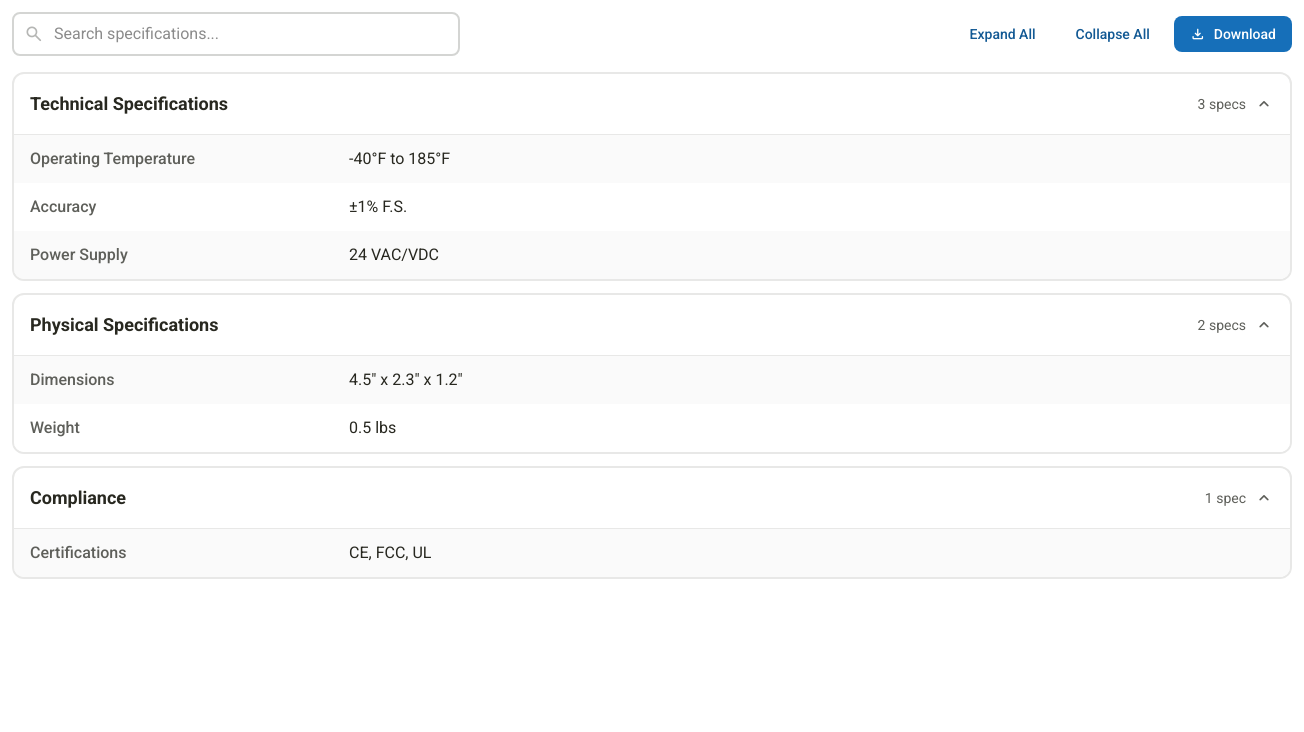
ProductSpecifications Component › Expand/Collapse All › collapses all groups when Collapse All clicked
Click the button "Collapse All" at (1113, 34), box left=1060, top=16, right=1166, bottom=52
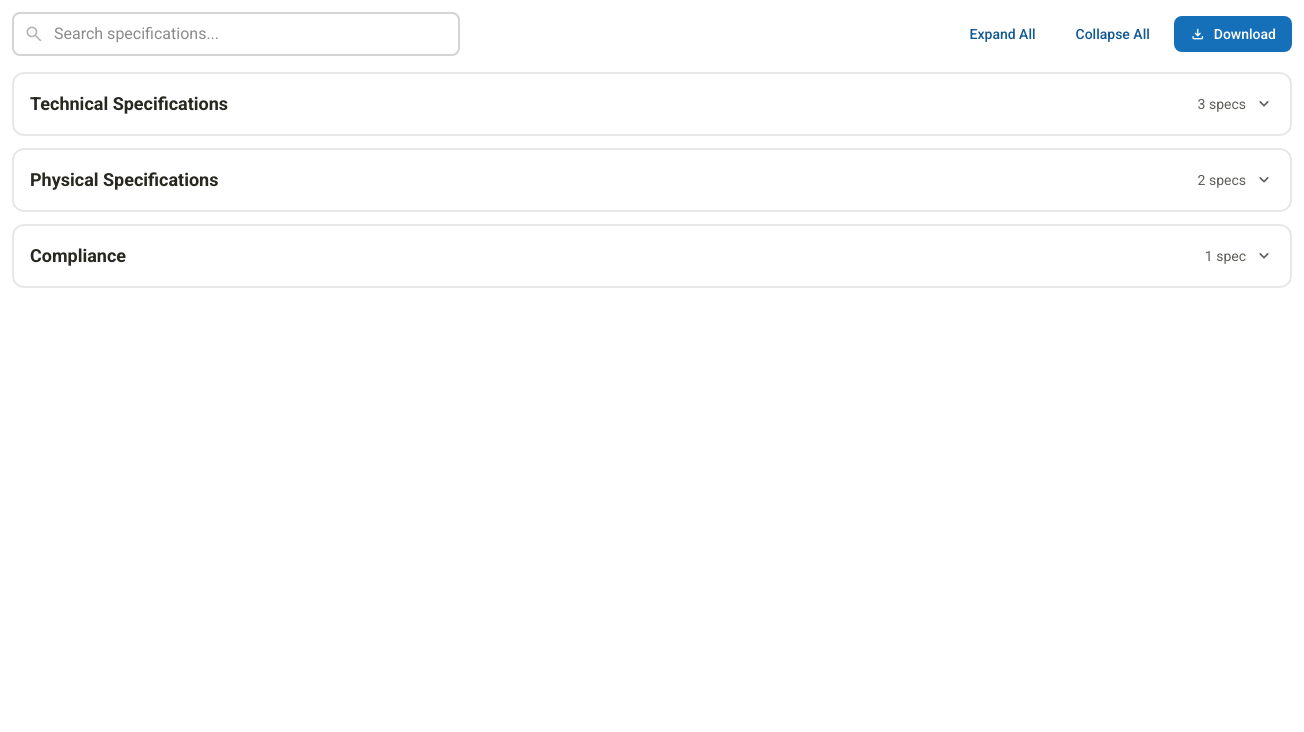
Now the text "Operating Temperature" is gone
Now the text "Dimensions" is gone
Now the text "Certifications" is gone
